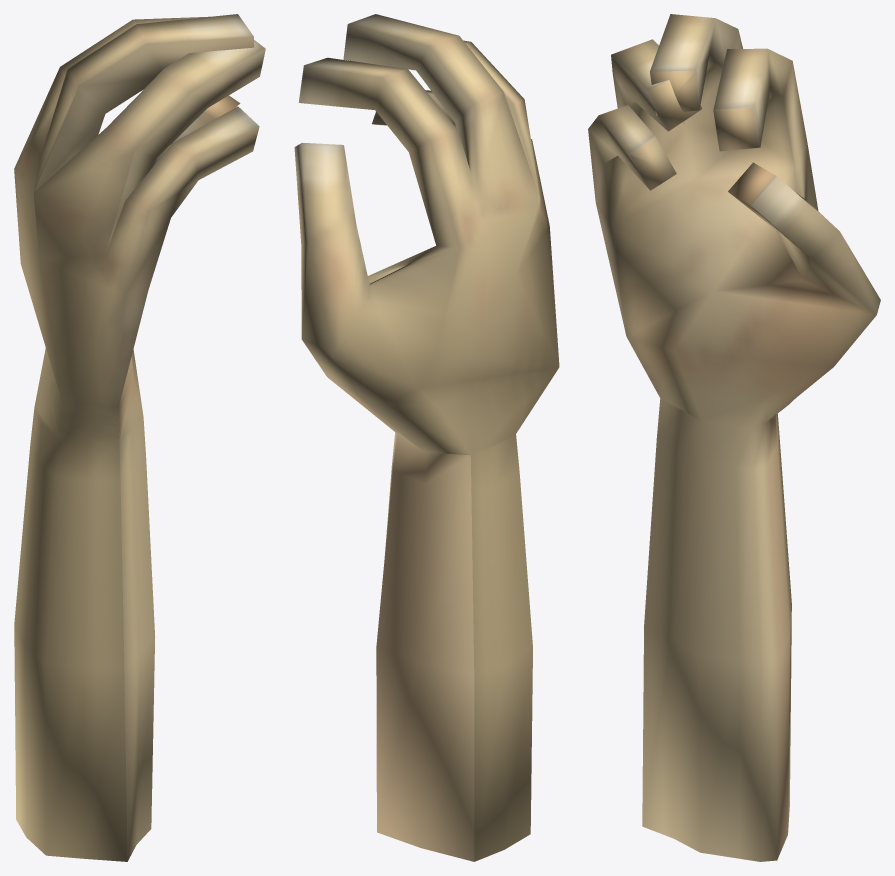
The model's file is Hand_Cuica.obj.
The picture shows the model from 3 angles, left to right: view 1: azimuth 30°, elevation 25°; view 2: azimuth 150°, elevation 25°; view 3: azimuth 270°, elevation 25°; orthographic projection. The views are drawn at different scales.
Parts seen in each view (by area): view 1: hand_right; view 2: hand_right; view 3: hand_right.
Part boxes in pixels (x1,y1,x2,y2): hand_right: [14, 14, 265, 861]; hand_right: [294, 14, 559, 861]; hand_right: [588, 14, 880, 861].
Bounding box in the file's own units: 3.37 × 11.15 × 3.56.
Materials: 1 (1 with a texture image).
